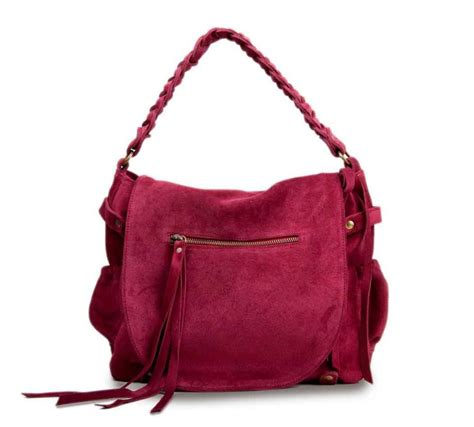gamuza: (90, 164, 388, 391)
